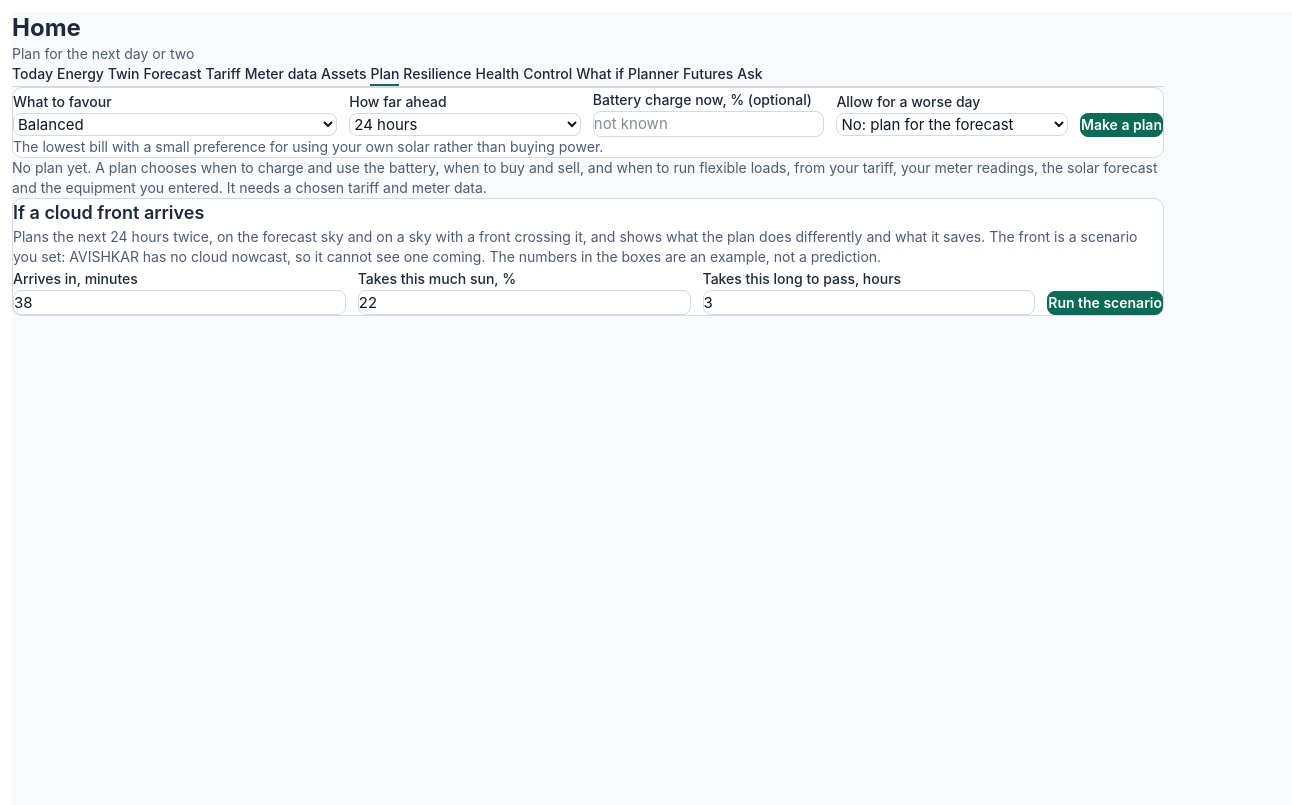
it: PlanView › asks for a risk-aware plan and shows what each day it was made for would cost
Expected: the text "No plan yet" is shown, [12,158,1158,196]
Select "As much as possible" in the dropdown labelled "Allow for a worse day" at (952, 125), box [836,113,1068,136]
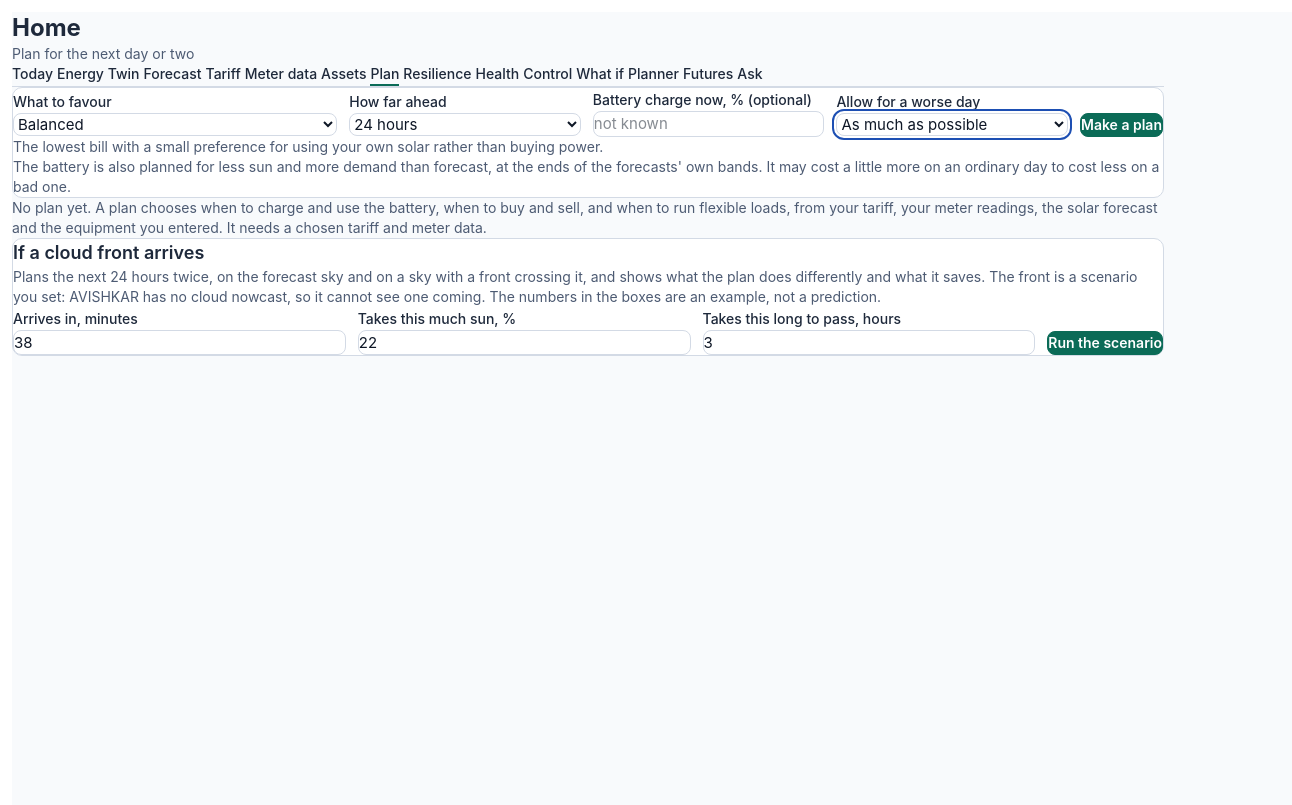
Result: the text "also planned for less sun and more demand than forecast" is shown at [13,158,1159,194]
Click the button "Make a plan".
click(1122, 125)  # box [1080,113,1163,136]
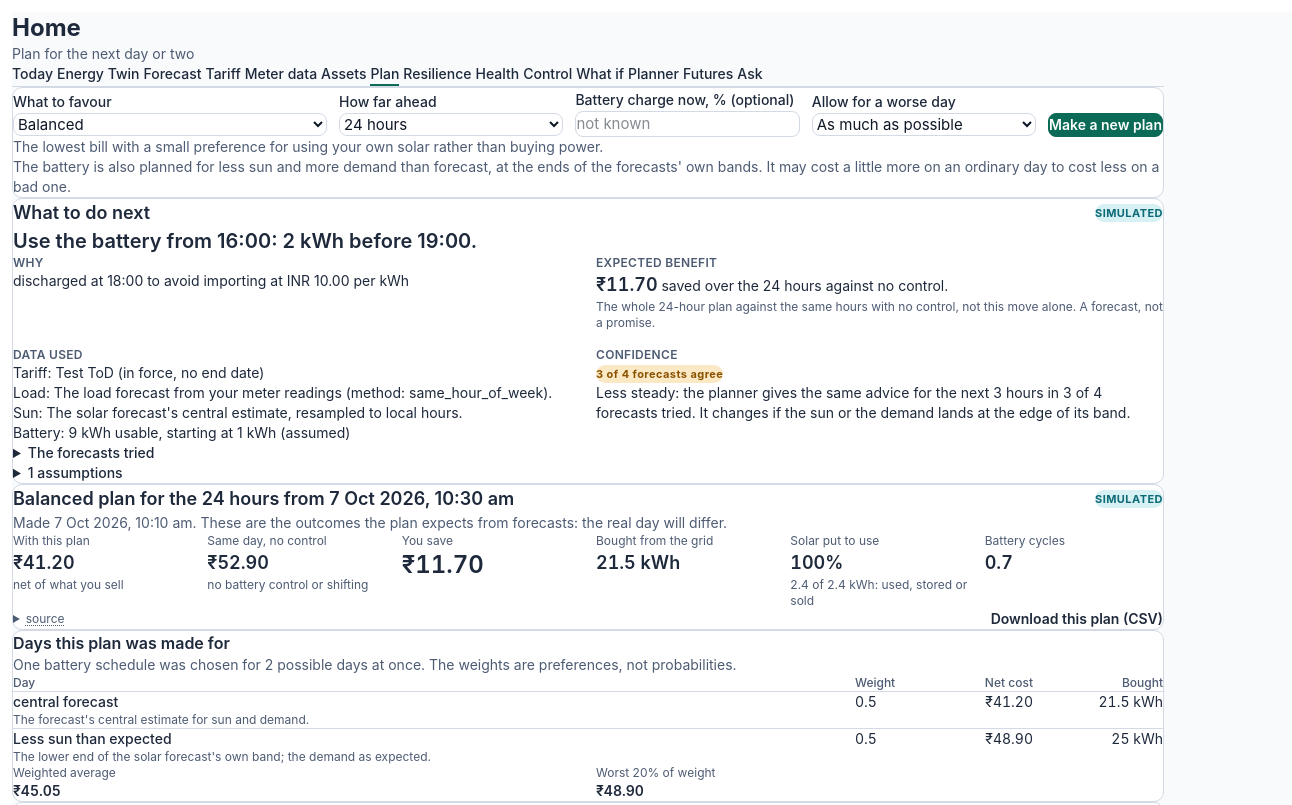
Result: the column heading "Less sun than expected" is shown at [13,728,855,764]
Result: the text "₹48.90" is shown 2 times at [936,728,1033,764]; [596,782,644,798]
Result: the text "Worst 20% of weight" is shown at [596,764,716,780]
